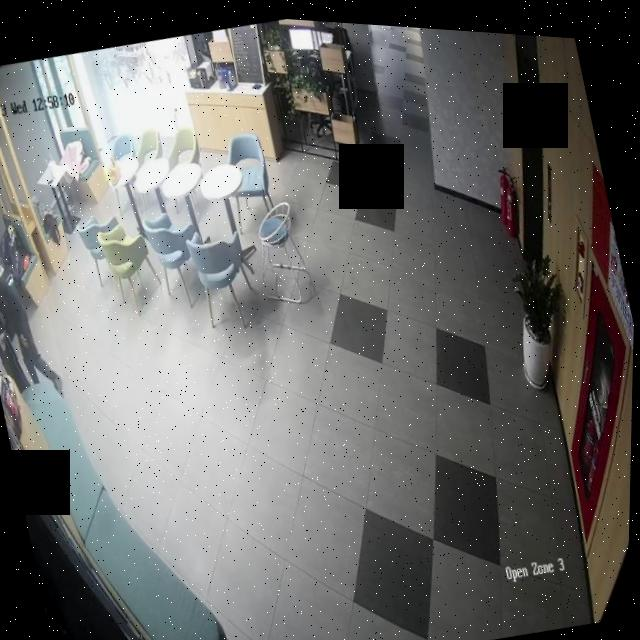person: (0, 247, 72, 411)
